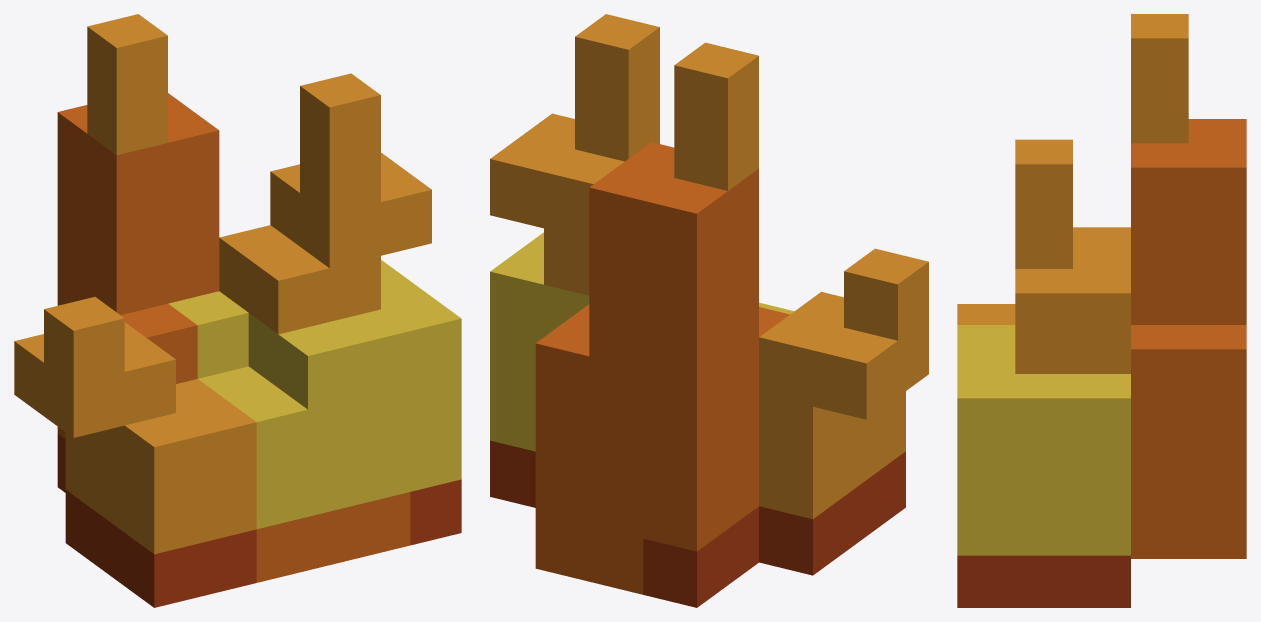
Rendered from flame_05.glb.
3 views of the same model, side by side, from view 1: azimuth 30°, elevation 25°; view 2: azimuth 150°, elevation 25°; view 3: azimuth 270°, elevation 25° (orthographic). The views are drawn at different scales.
Parts seen in each view (by area): view 1: flame_05; view 2: flame_05; view 3: flame_05.
Boxes of the visible parts, left/top/right/bottom form: flame_05: left=14, top=14, right=461, bottom=607; flame_05: left=490, top=14, right=928, bottom=607; flame_05: left=957, top=14, right=1246, bottom=607.
Bounding box in the file's own units: 0.875 × 1.12 × 0.625.
